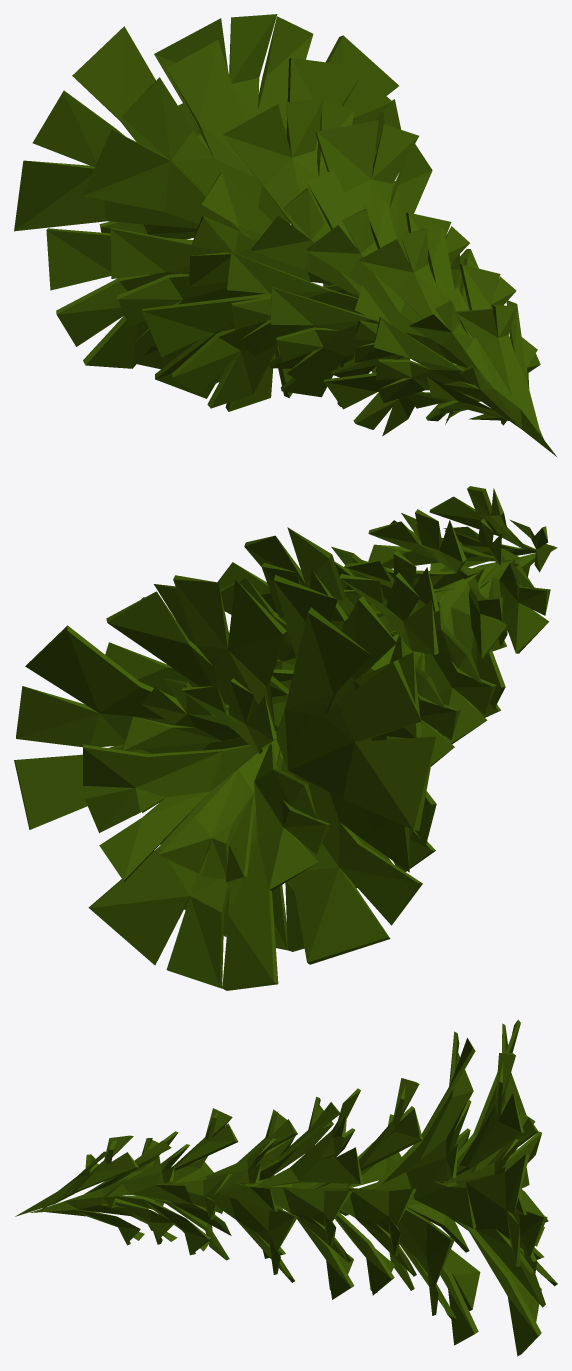
The model's file is PineTreeLeafs.001.glb.
The picture shows the model from 3 angles, top to bottom: view 1: azimuth 30°, elevation 25°; view 2: azimuth 150°, elevation 25°; view 3: azimuth 270°, elevation 25°; orthographic projection. The views are drawn at different scales.
Visible parts, largest first — view 1: PineTreeLeafs.001; view 2: PineTreeLeafs.001; view 3: PineTreeLeafs.001.
Part boxes in pixels (x1,y1,x2,y2): PineTreeLeafs.001: (14, 14, 557, 457); PineTreeLeafs.001: (14, 486, 557, 990); PineTreeLeafs.001: (15, 1019, 557, 1356).
Bounding box in the file's own units: 3.56 × 3.33 × 5.7.
Materials: 1 (1 with a texture image).
